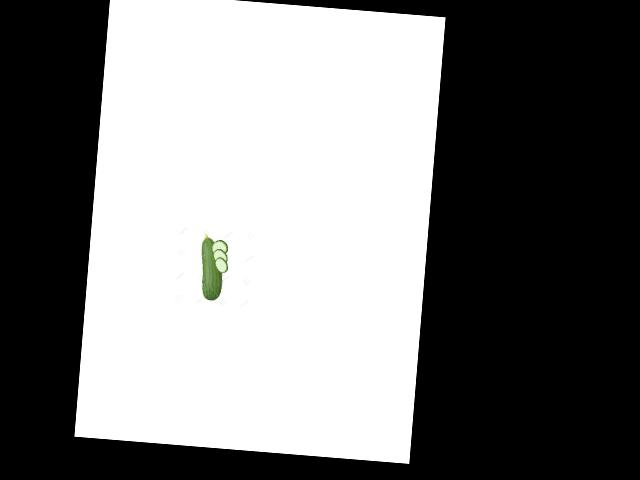cucumber: (197, 234, 226, 302)
